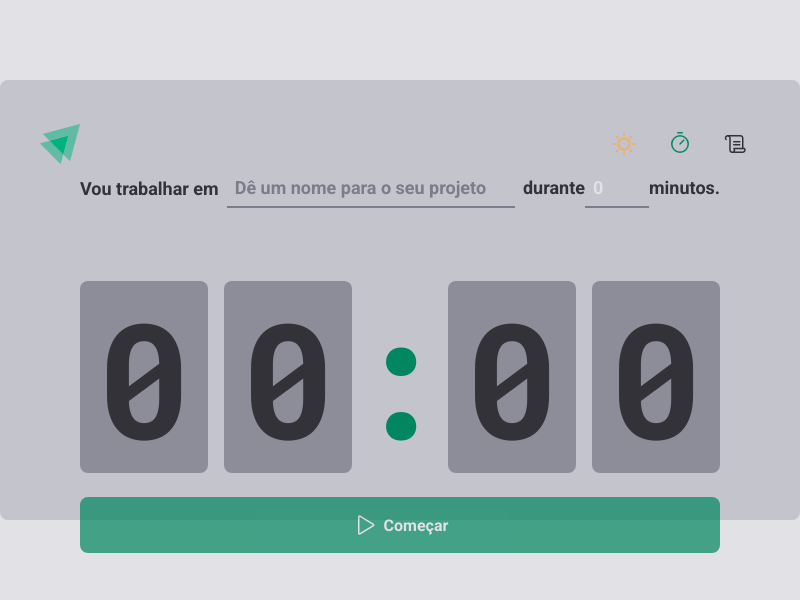
it: empty spec › Visit the history page
Click the link with id "history" at (736, 144), box 724,132 -> 748,156
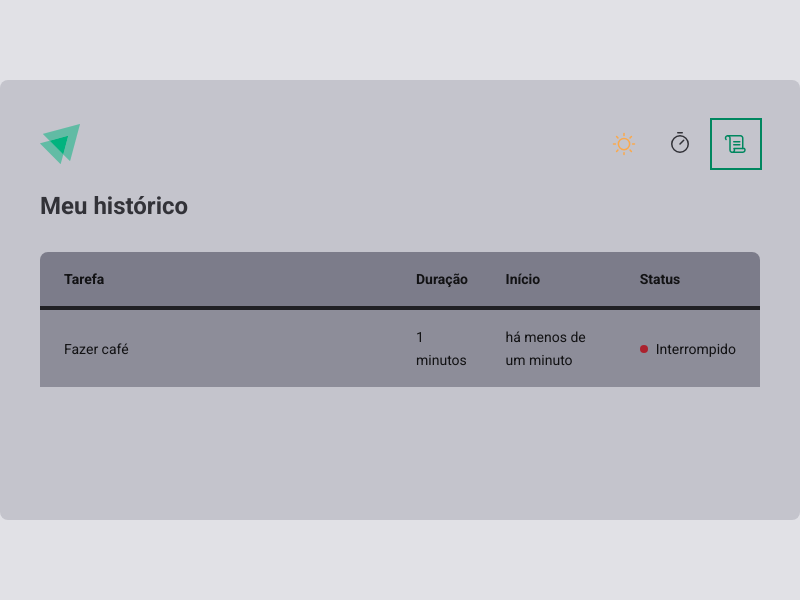
Now the heading "Meu histórico" is shown, box 40,192 -> 188,220
